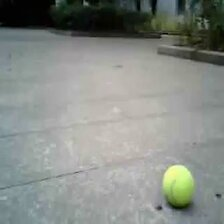tennis: (162, 164, 194, 205)
